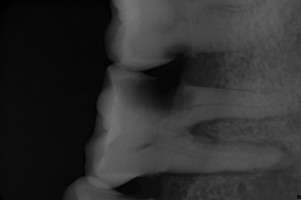Endo-Periodontal Lesion: (190, 118, 219, 141)
Furcation Involvement: (240, 139, 301, 200)
